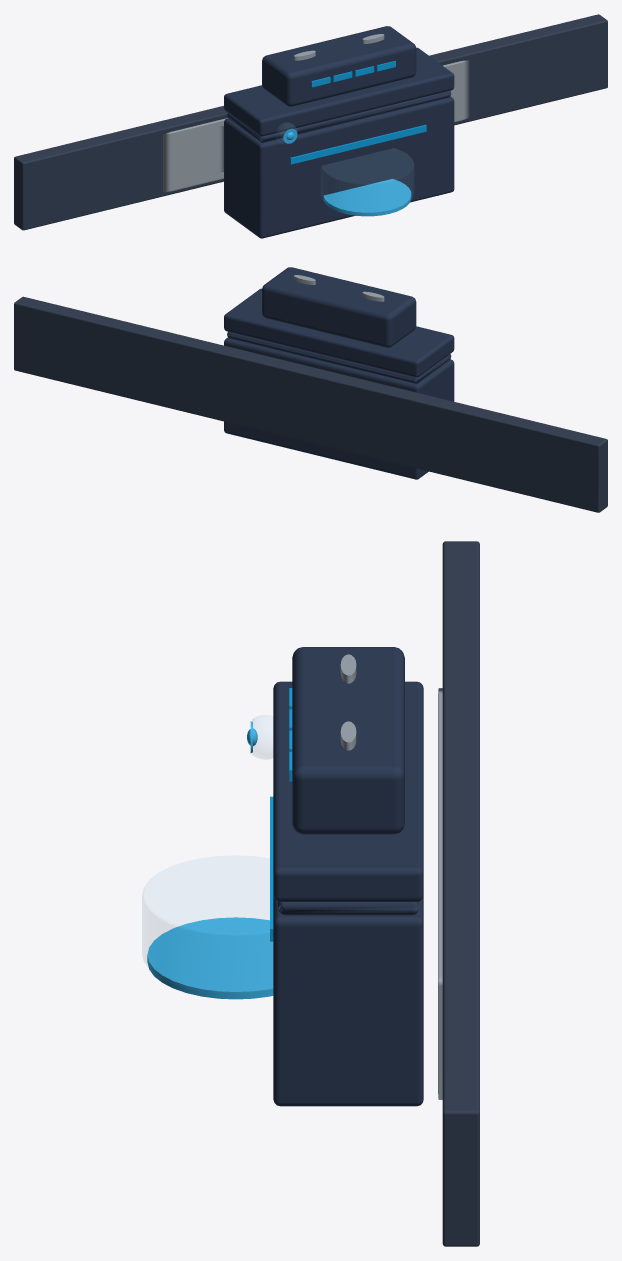
The model's file is sample-r15.glb.
3 renders of one model, top to bottom at view 1: azimuth 30°, elevation 25°; view 2: azimuth 150°, elevation 25°; view 3: azimuth 270°, elevation 25°, orthographic. The views are drawn at different scales.
Visible parts, largest first — view 1: belt, body, battery, main-light, dark-sensor; view 2: belt, body, battery; view 3: body, belt, battery, main-light, dark-sensor.
Part boxes in pixels (x1,y1,x2,y2): belt: [14, 14, 607, 230]; body: [224, 47, 454, 238]; battery: [262, 26, 416, 106]; main-light: [321, 149, 413, 216]; dark-sensor: [276, 123, 297, 143]; belt: [14, 296, 607, 512]; body: [224, 288, 454, 479]; battery: [262, 267, 416, 347]; body: [270, 681, 423, 1106]; belt: [438, 541, 479, 1246]; battery: [289, 647, 404, 834]; main-light: [142, 856, 273, 999]; dark-sensor: [247, 715, 272, 759].
Size of the model in its own units: 0.36 by 0.0924 by 0.09.
